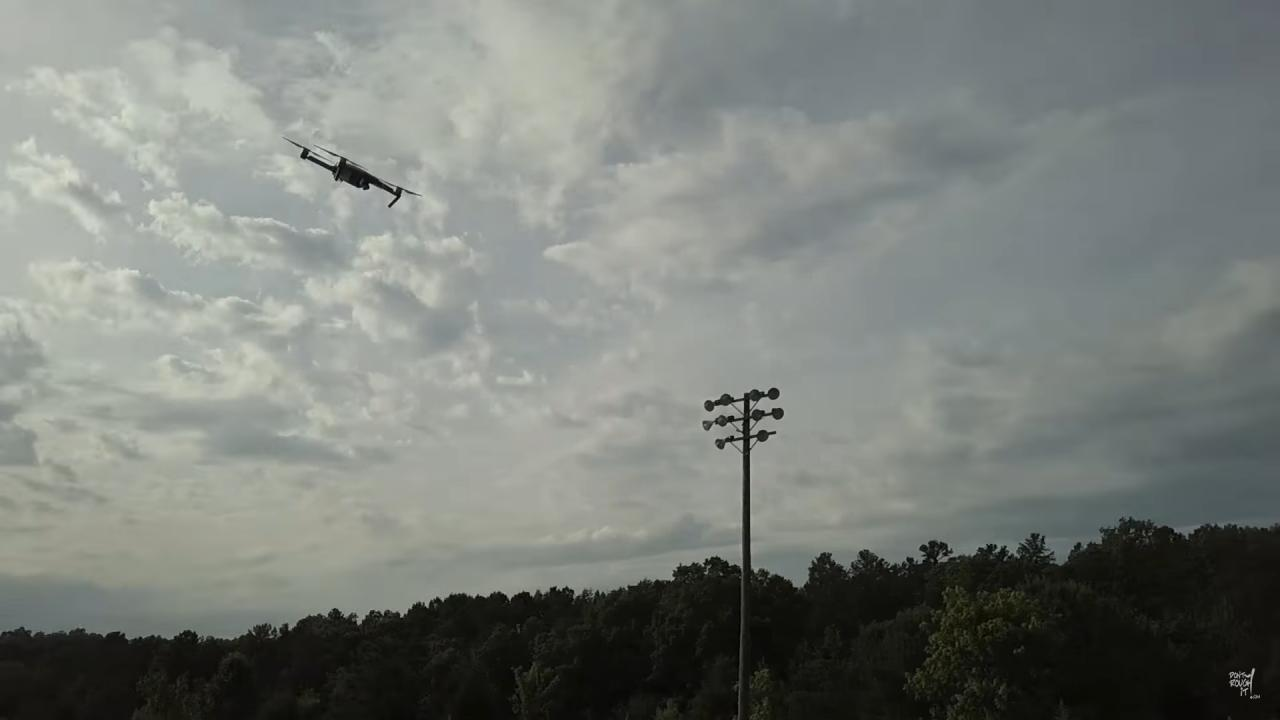Drone: (266, 122, 433, 226)
